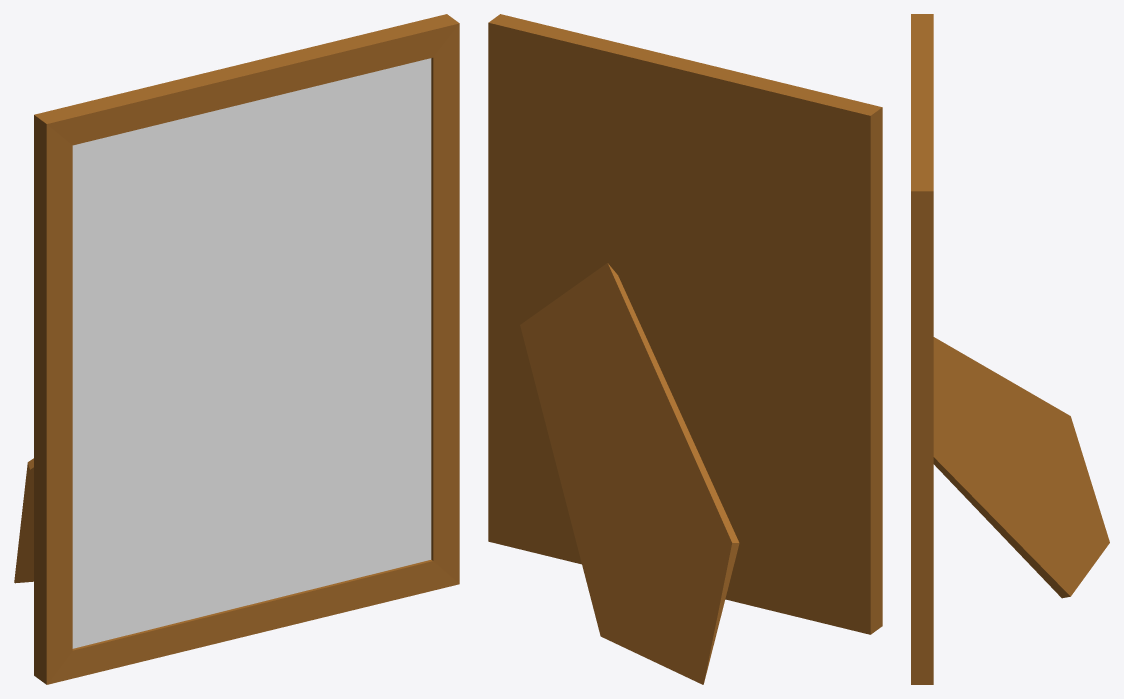
Rendered from Picture.glb.
3 views of the same model, side by side, from view 1: azimuth 30°, elevation 25°; view 2: azimuth 150°, elevation 25°; view 3: azimuth 270°, elevation 25° (orthographic). The views are drawn at different scales.
Parts seen in each view (by area): view 1: Cube.001, Cube, Cube.002; view 2: Cube, Cube.002; view 3: Cube.002, Cube.
Part boxes in pixels (left/top/right/bottom): Cube.001: left=72, top=58, right=431, bottom=648; Cube: left=34, top=14, right=459, bottom=684; Cube.002: left=14, top=458, right=33, bottom=583; Cube: left=488, top=14, right=882, bottom=634; Cube.002: left=520, top=263, right=739, bottom=684; Cube.002: left=933, top=337, right=1109, bottom=598; Cube: left=911, top=14, right=933, bottom=684.
Size of the model in its own units: 4.29 by 5.57 by 2.03.
